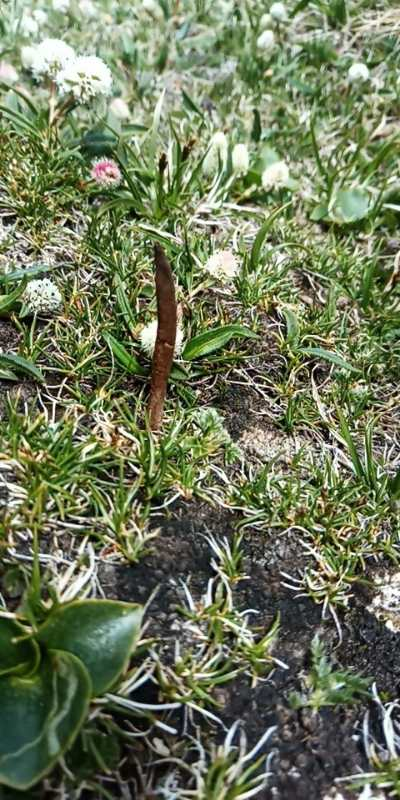cpf: (134, 241, 183, 426)
